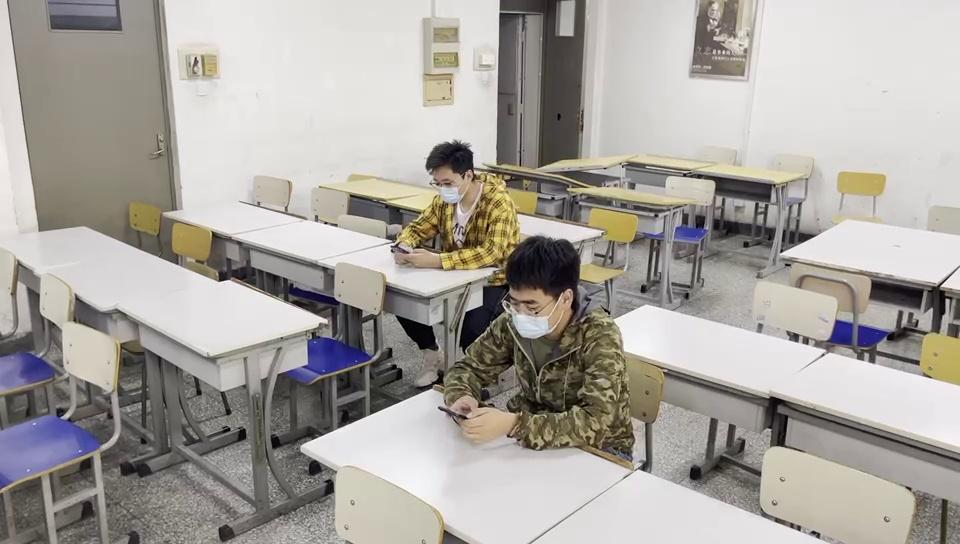phone: (436, 272, 615, 445), (388, 149, 500, 269)
